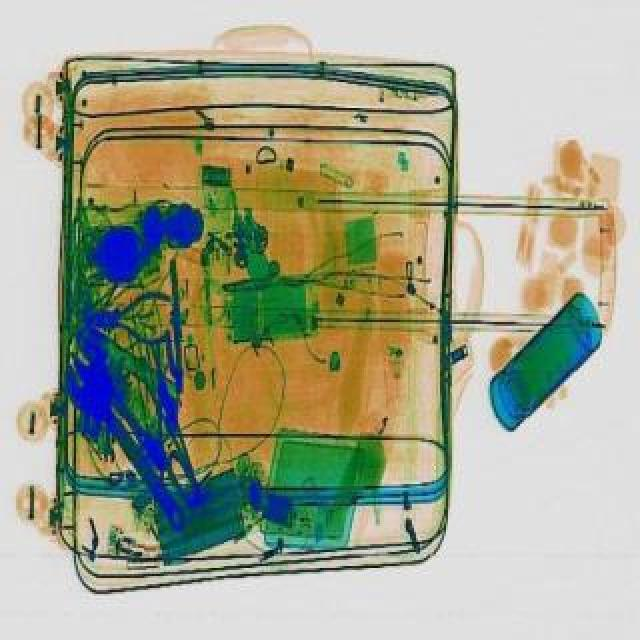scissors: (48, 344, 208, 548)
wrench: (90, 294, 174, 350)
